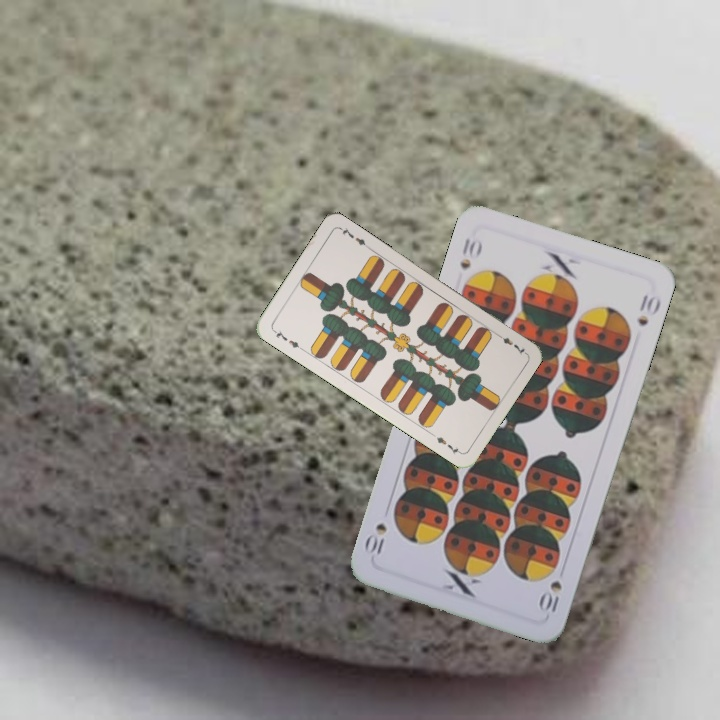E7: (492, 329, 528, 358), (269, 326, 305, 353)
S10: (536, 576, 565, 617), (456, 233, 485, 272)
